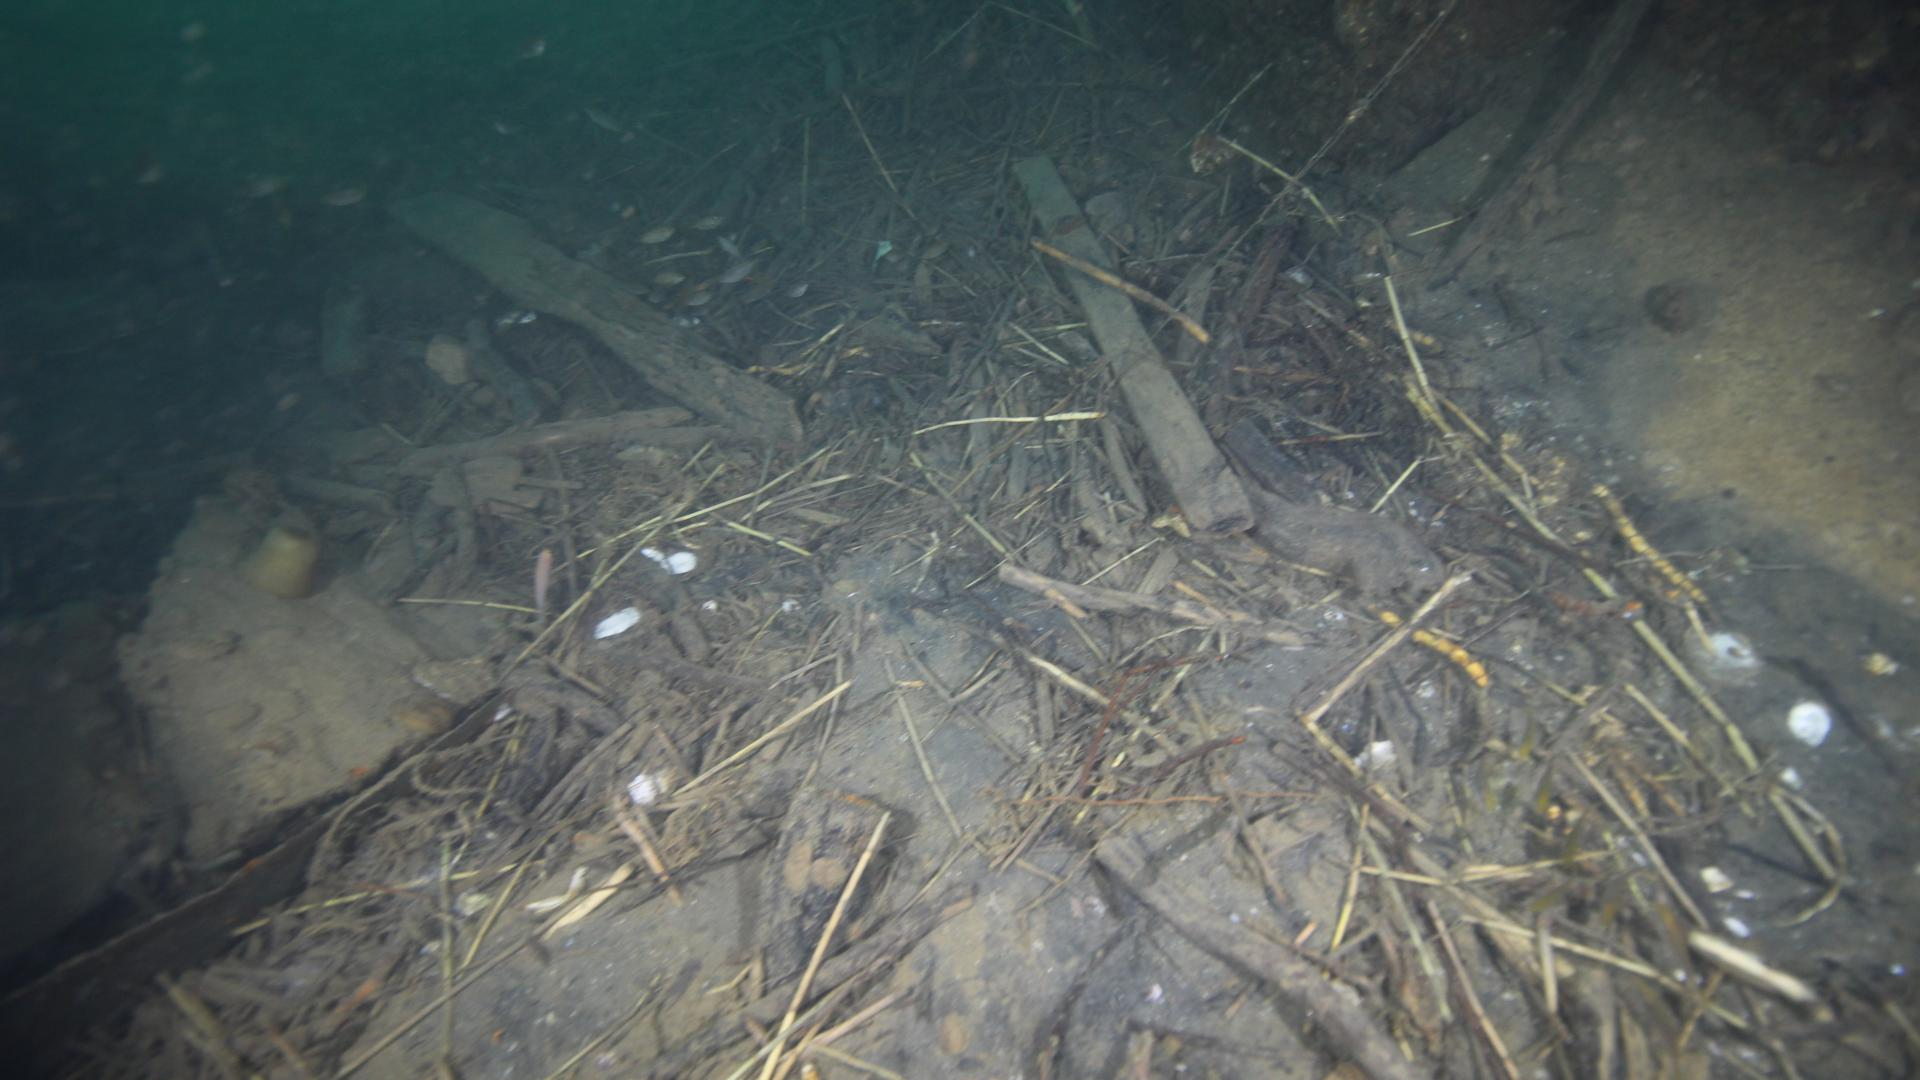wood: (388, 190, 804, 442), (1011, 156, 1255, 537), (400, 404, 694, 475)
